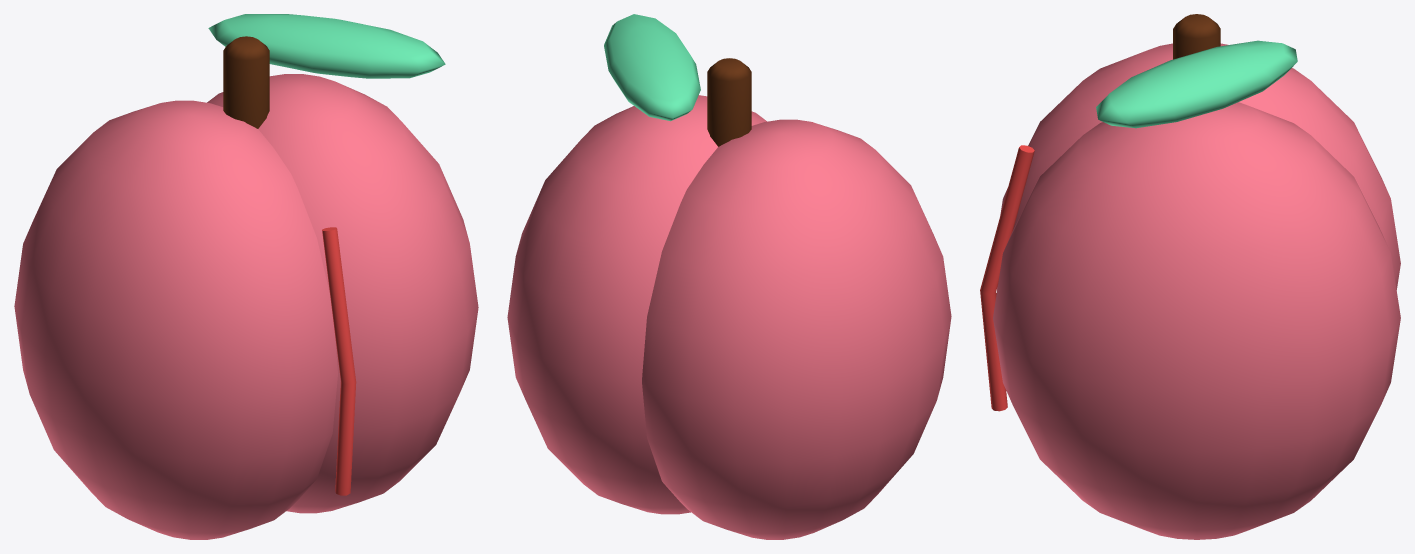
File: peach.glb
3 views of the same model, side by side, from view 1: azimuth 30°, elevation 25°; view 2: azimuth 150°, elevation 25°; view 3: azimuth 270°, elevation 25° (orthographic). The views are drawn at different scales.
Visible parts, largest first — view 1: peach; view 2: peach; view 3: peach.
Part boxes in pixels (box(x1,y1,x2,y2)): peach: box(14, 14, 478, 539); peach: box(507, 14, 951, 539); peach: box(980, 14, 1400, 539).
Size of the model in its own units: 0.8974 by 1 by 0.7935.
1 material, 1 textured.
